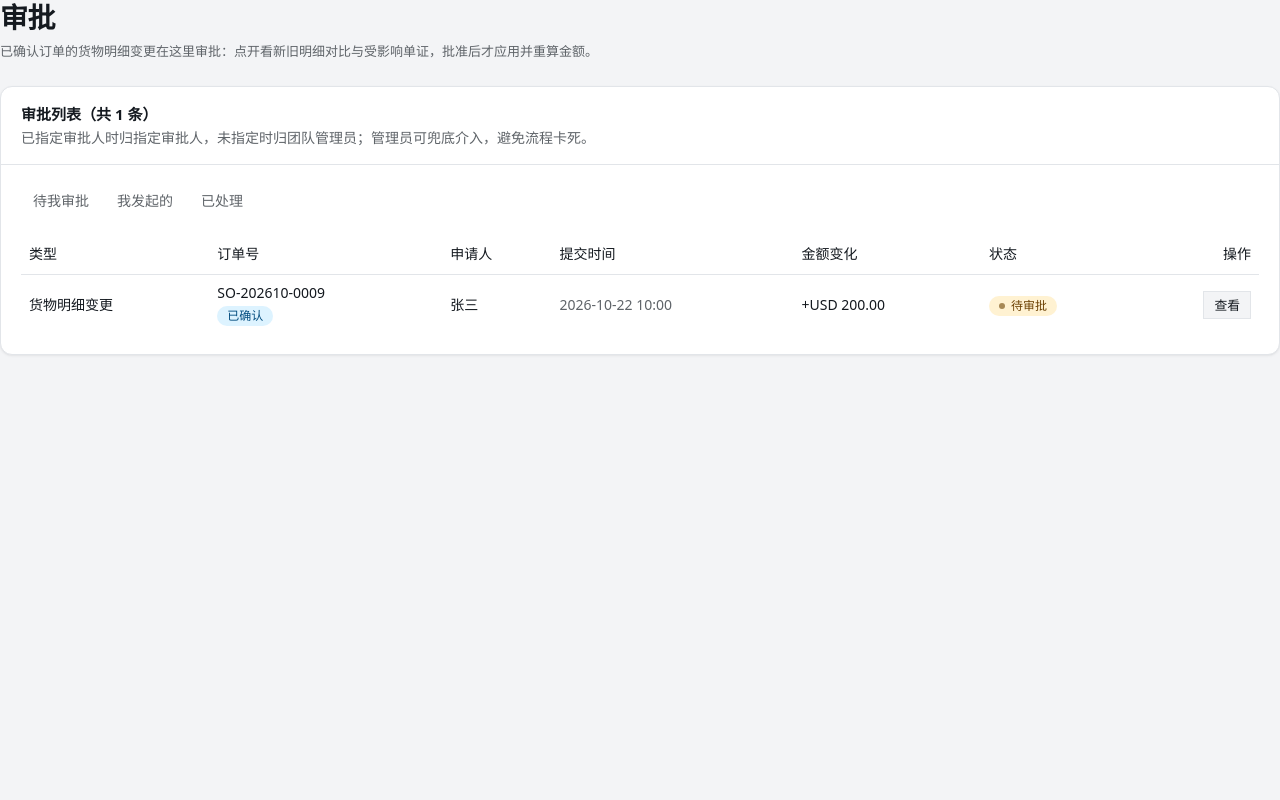
Scenario: 审批详情与决策 › affected_docs=[]：后端明确回答没有已开单证，也不回退请求 /trade-docs
Click the button "查看".
click(1227, 305)  # box [1203,291,1251,319]
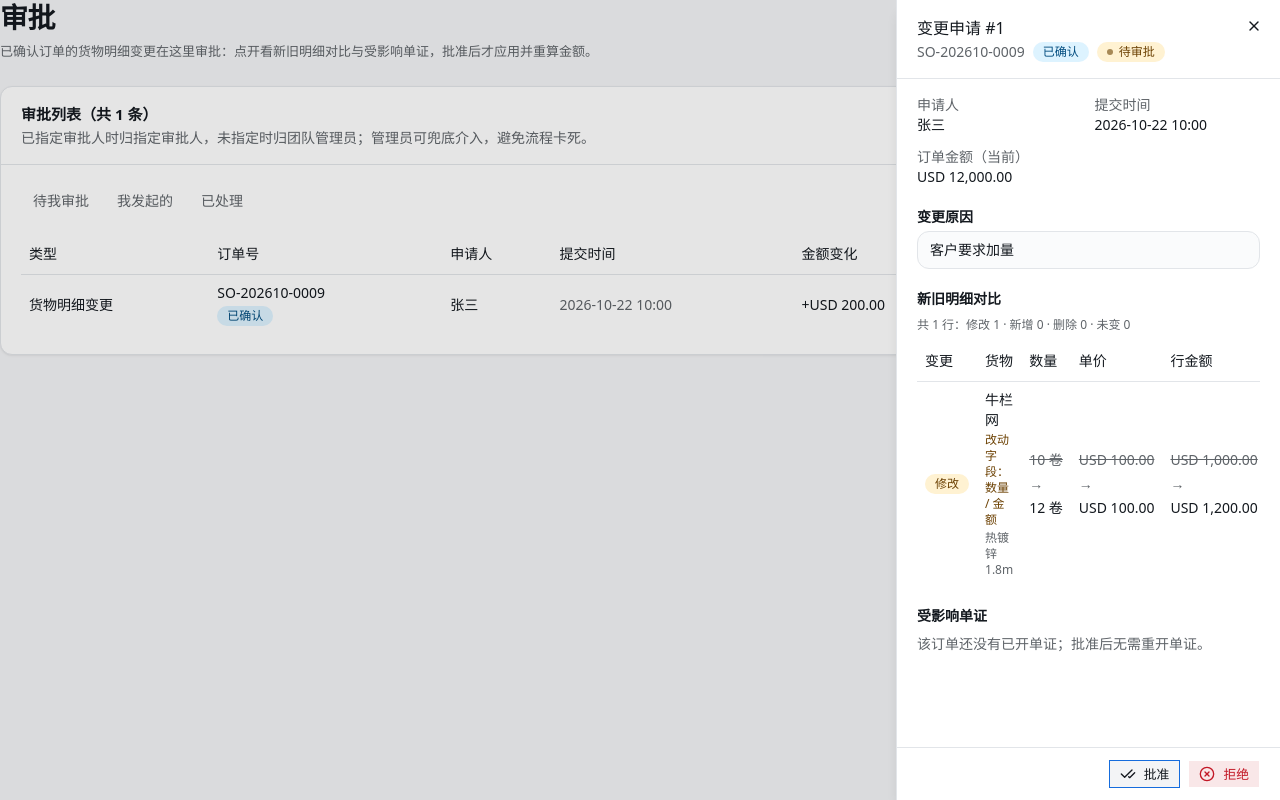
Expected: the text "该订单还没有已开单证" is shown, [917,634,1211,652]
